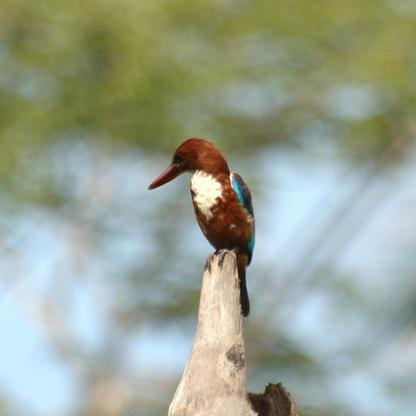bird: (147, 137, 256, 317)
